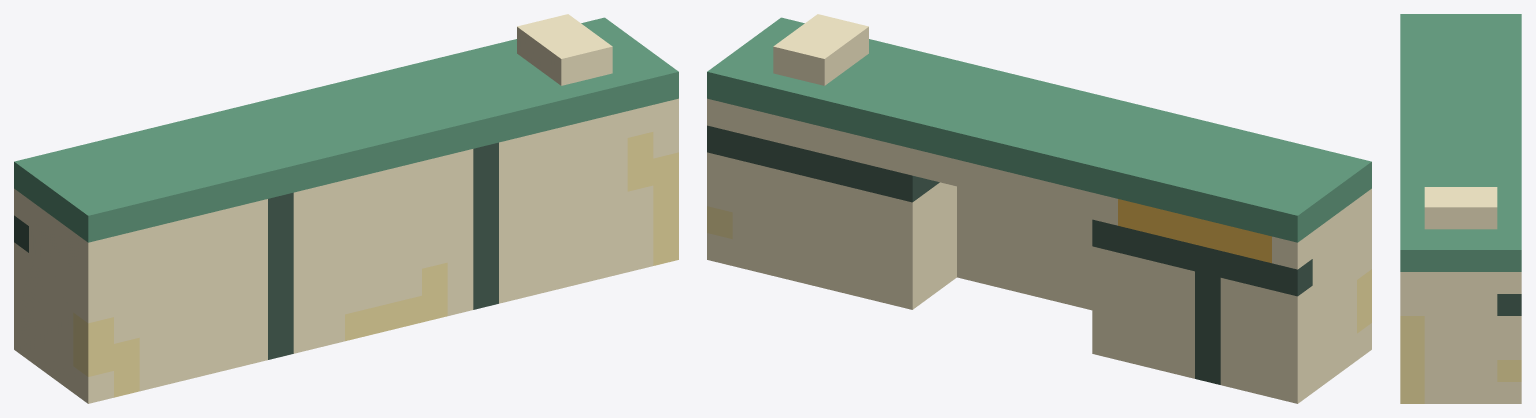
Rendered from desk.obj.
3 renders of one model, left to right at view 1: azimuth 30°, elevation 25°; view 2: azimuth 150°, elevation 25°; view 3: azimuth 270°, elevation 25°, orthographic. The views are drawn at different scales.
Bounding box in the file's own units: 23 × 8 × 5.
1 material, 1 textured.
